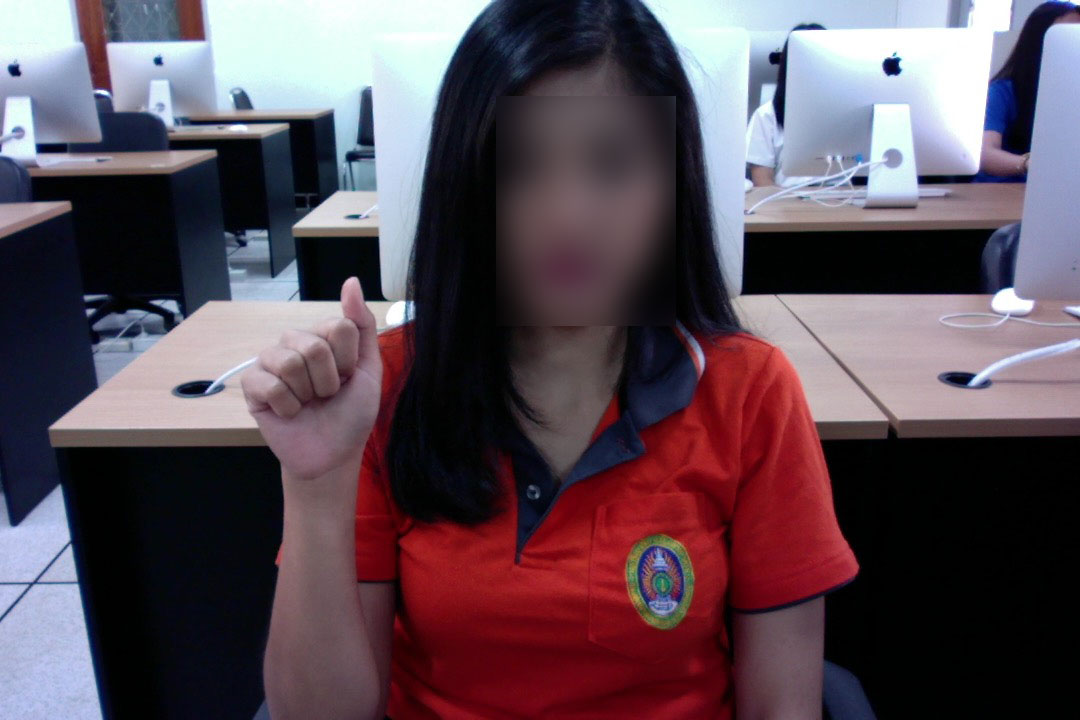or: (237, 268, 386, 502)
